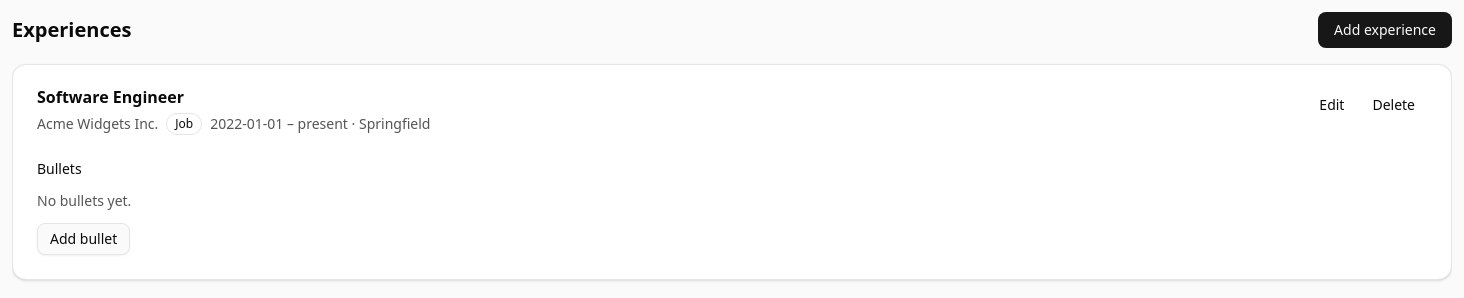
ExperienceEditor › deletes an experience after confirmation
Step 1. Click the button with aria-label "Delete experience" → (1394, 105), box [1360,89,1427,121]
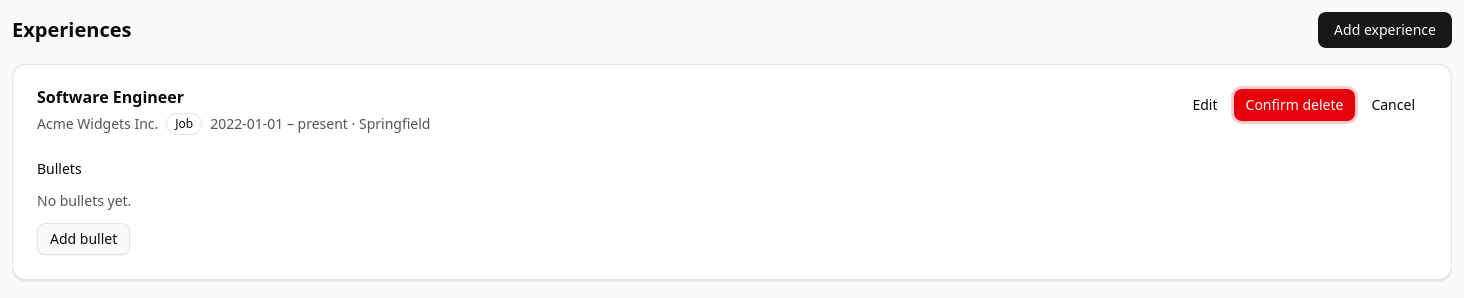
Step 2. Click the button with aria-label "Confirm delete experience" → (1294, 105), box [1234,89,1355,121]
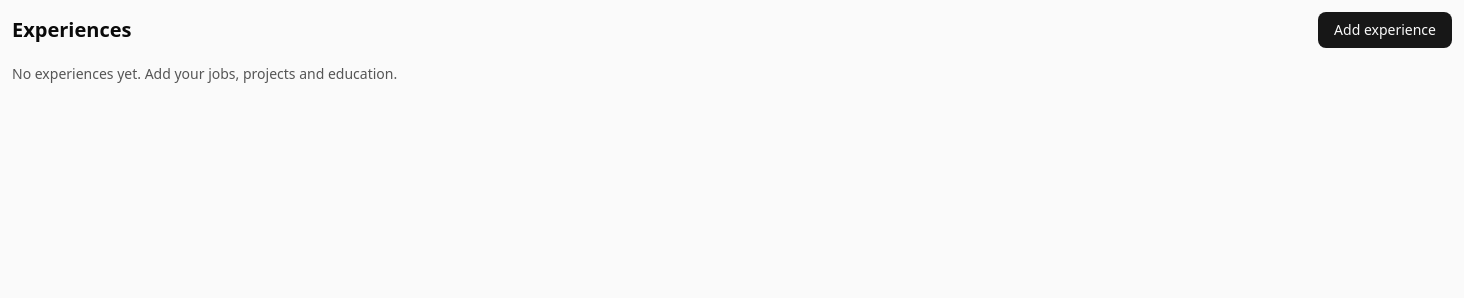
Now the text "No experiences yet. Add your jobs, projects and education." is shown, box [12,64,397,83]
